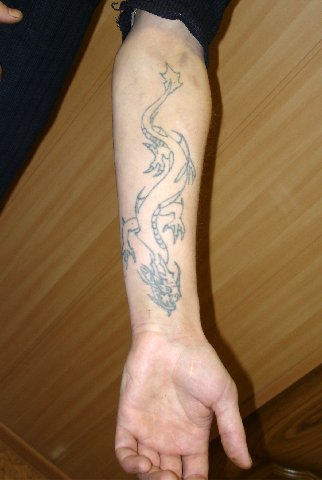tatu6_drakon: (116, 46, 208, 325)
